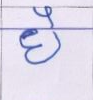ai_matra: (33, 7, 60, 27)
